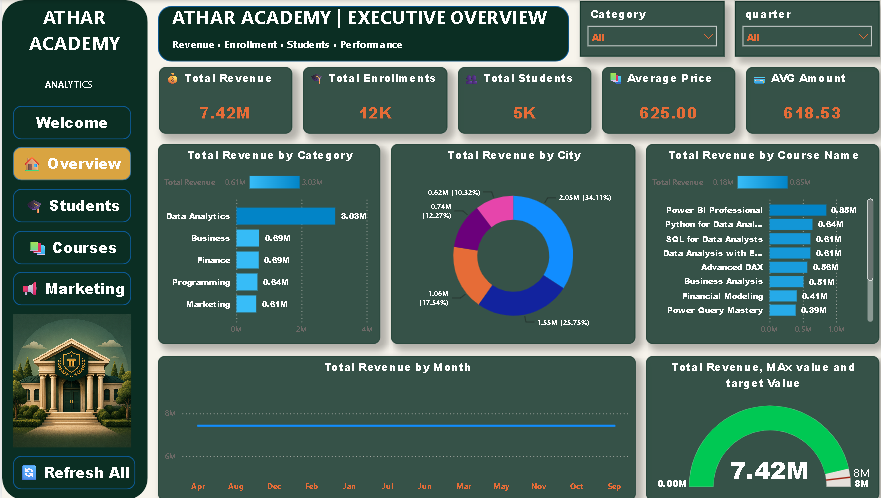

What the dashboard file says about the page in this screenshot:
{"tool":"powerbi","page":{"name":"Overview","canvas":[1280,720],"ordinal":1},"visuals":[{"type":"shape","box":[0,0,210,720],"z":0},{"type":"shape","box":[224,8,592,80],"z":0,"group":"g2"},{"type":"textbox","box":[0,0,208,96],"z":1000},{"type":"textbox","box":[240,0,560,48],"z":1000,"group":"g2"},{"type":"textbox","box":[240,48,352,32],"z":2000,"group":"g2"},{"type":"textbox","box":[0,80,192,32],"z":2000},{"type":"shape","box":[16,112,170,48],"z":3000},{"type":"shape","box":[16,185.6,170,48],"z":4000},{"type":"shape","box":[16,259.2,170,48],"z":5000},{"type":"shape","box":[16,332.8,170,48],"z":6000},{"type":"image","box":[16,406.4,170,192],"z":7000},{"type":"actionButton","box":[16,608,176,48],"z":12000},{"type":"shape","box":[16,624,176,48],"z":13000},{"type":"group","id":"g1","title":"Group 1","box":[224,0,592,88],"z":14000},{"type":"cardVisual","title":"💰 Total Revenue","fields":{"Data":["Calender.Total Revenue"]},"box":[225.6,96,192,96],"z":15000},{"type":"group","id":"g2","title":"Group 2","box":[224,0,592,88],"z":15003,"group":"g1"},{"type":"slicer","fields":{"Values":["Courses.Category"]},"box":[832,1.3,208,80],"z":16000},{"type":"slicer","fields":{"Values":["Calender.quarter"]},"box":[1056,1.3,208,80],"z":17000},{"type":"cardVisual","title":"🎓 Total Enrollments","fields":{"Data":["Calender.Total Enrollments"]},"box":[433.2,96,208,96],"z":18000},{"type":"cardVisual","title":"👥 Total Students","fields":{"Data":["Calender.Total Students"]},"box":[656.8,96,192,96],"z":19000},{"type":"cardVisual","title":"📚 Average  Price","fields":{"Data":["Calender.Average Course Price"]},"box":[864.4,96,192,96],"z":20000},{"type":"cardVisual","title":"💳 AVG Amount","fields":{"Data":["Calender.Average Paid Amount"]},"box":[1072,96,192,96],"z":21000},{"type":"clusteredBarChart","fields":{"Category":["Courses.Category"],"Y":["Calender.Total Revenue"]},"box":[225.3,208,320,288],"z":22000},{"type":"lineChart","fields":{"Category":["Calender.Month"],"Y":["Calender.Total Revenue"]},"box":[225,512,688,208],"z":23000},{"type":"clusteredBarChart","fields":{"Category":["Courses.Course Name"],"Y":["Calender.Total Revenue"]},"box":[928,208,336,288],"z":24000},{"type":"donutChart","fields":{"Category":["Students.City"],"Y":["Calender.Total Revenue"]},"box":[560.7,208,352,288],"z":25000},{"type":"gauge","fields":{"MaxValue":["Calender.MAx value"],"TargetValue":["Calender.target Value"],"Y":["Calender.Total Revenue"]},"box":[928,512,336,208],"z":26000}]}

Visuals, with their boxes in screenshot pixels (x1, y1, x2, y2), scaled from the page's 1280x720 canvas onto the 881x498 screenshot:
shape: box=[0, 0, 145, 497]
shape: box=[154, 6, 562, 61]
textbox: box=[0, 0, 143, 66]
textbox: box=[165, 0, 551, 33]
textbox: box=[165, 33, 407, 55]
textbox: box=[0, 55, 132, 77]
shape: box=[11, 77, 128, 111]
shape: box=[11, 128, 128, 162]
shape: box=[11, 179, 128, 212]
shape: box=[11, 230, 128, 263]
image: box=[11, 281, 128, 414]
actionButton: box=[11, 421, 132, 454]
shape: box=[11, 432, 132, 465]
"Group 1" group: box=[154, 0, 562, 61]
"💰 Total Revenue" cardVisual: box=[155, 66, 287, 133]
"Group 2" group: box=[154, 0, 562, 61]
slicer - Courses.Category: box=[573, 1, 716, 56]
slicer - Calender.quarter: box=[727, 1, 870, 56]
"🎓 Total Enrollments" cardVisual: box=[298, 66, 441, 133]
"👥 Total Students" cardVisual: box=[452, 66, 584, 133]
"📚 Average  Price" cardVisual: box=[595, 66, 727, 133]
"💳 AVG Amount" cardVisual: box=[738, 66, 870, 133]
clusteredBarChart - Courses.Category x Calender.Total Revenue: box=[155, 144, 375, 343]
lineChart - Calender.Month x Calender.Total Revenue: box=[155, 354, 628, 497]
clusteredBarChart - Courses.Course Name x Calender.Total Revenue: box=[639, 144, 870, 343]
donutChart - Students.City x Calender.Total Revenue: box=[386, 144, 628, 343]
gauge - Calender.MAx value x Calender.target Value: box=[639, 354, 870, 497]
